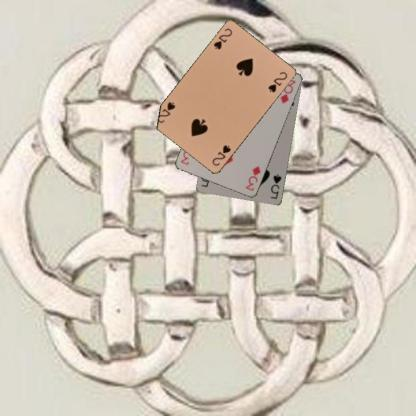2s: (210, 142, 232, 168), (211, 26, 233, 51)
3d: (243, 164, 262, 192)
5s: (268, 172, 283, 200)
